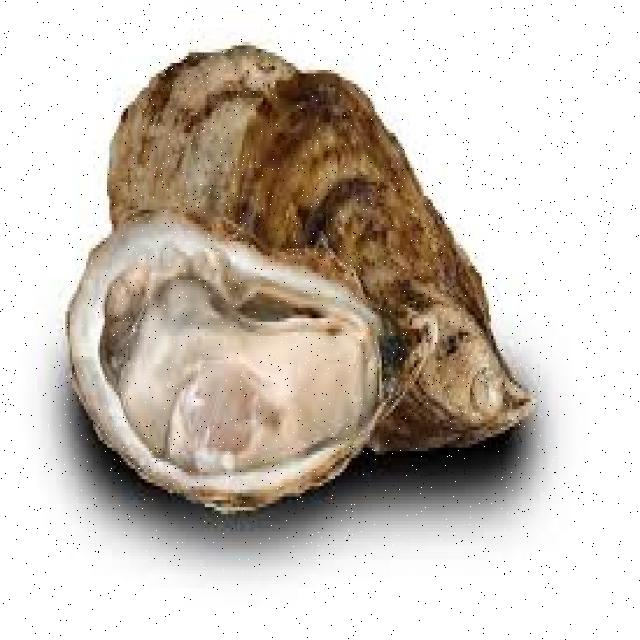Oyster-Closed: (102, 48, 570, 430)
Oyster-Open: (68, 221, 382, 512)
